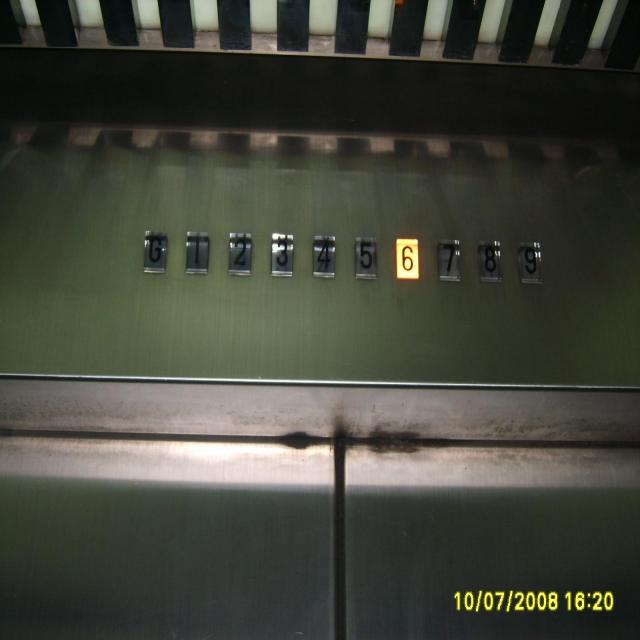1: (183, 230, 210, 276)
2: (227, 229, 252, 277)
3: (269, 231, 294, 278)
4: (312, 234, 335, 278)
5: (354, 235, 378, 280)
6: (394, 236, 420, 280)
7: (436, 238, 461, 281)
8: (477, 239, 502, 282)
9: (518, 240, 542, 284)
G: (141, 229, 168, 276)
